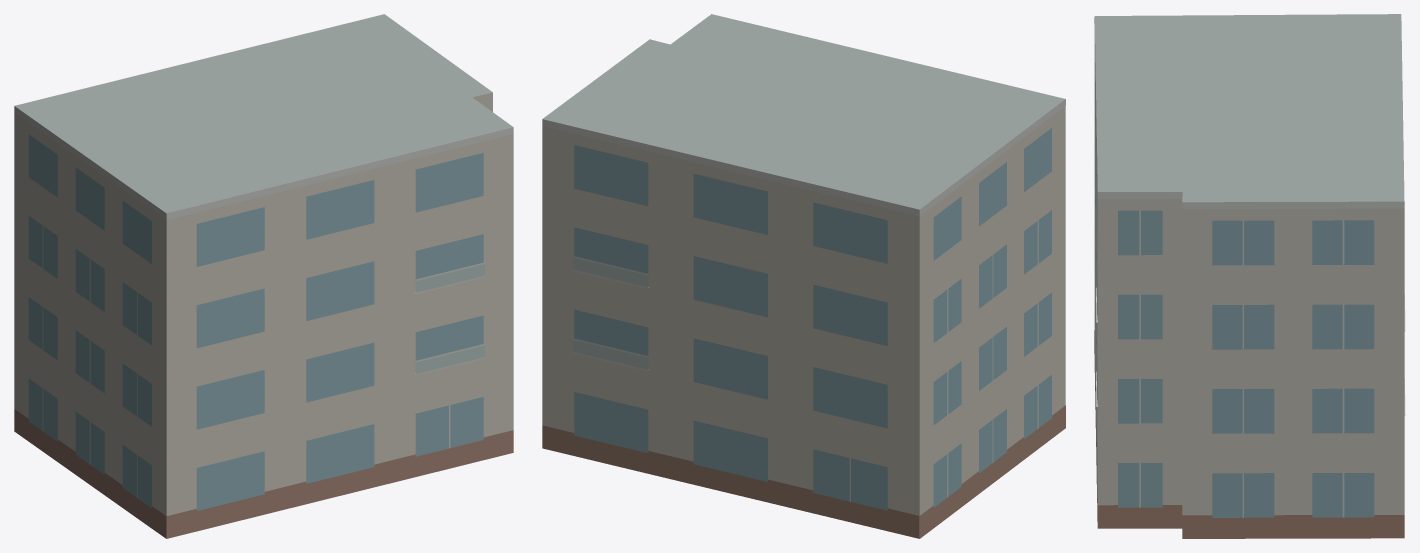
Rendered from survey-upis-32550932.glb.
3 views of the same model, side by side, from view 1: azimuth 30°, elevation 25°; view 2: azimuth 150°, elevation 25°; view 3: azimuth 270°, elevation 25° (orthographic). The views are drawn at different scales.
Visible parts, largest first — view 1: survey-upis-32550932.tmp; view 2: survey-upis-32550932.tmp; view 3: survey-upis-32550932.tmp.
Part boxes in pixels (x1,y1,x2,y2): survey-upis-32550932.tmp: (14, 14, 513, 538); survey-upis-32550932.tmp: (542, 14, 1065, 538); survey-upis-32550932.tmp: (1094, 14, 1405, 538).
Size of the model in its own units: 14.1 by 11.75 by 9.84.
